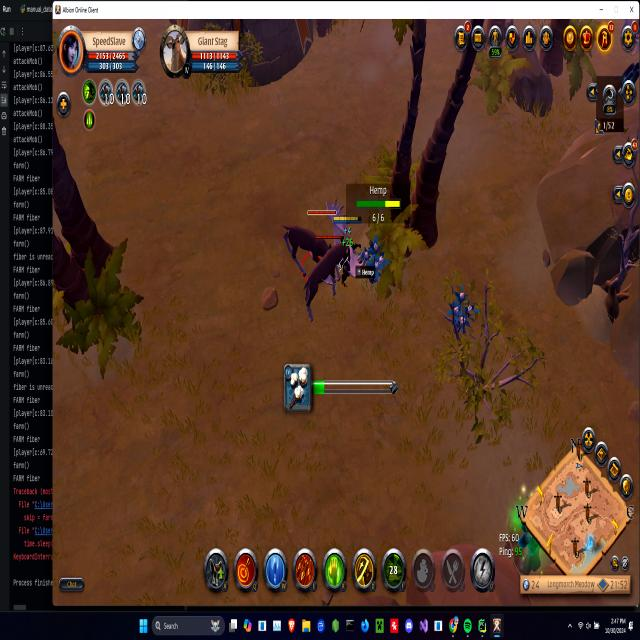hide: (446, 282, 474, 341), (362, 234, 389, 287)
ore: (302, 199, 362, 330), (278, 204, 329, 279)
player: (506, 519, 542, 576)
red: (333, 212, 361, 288)
